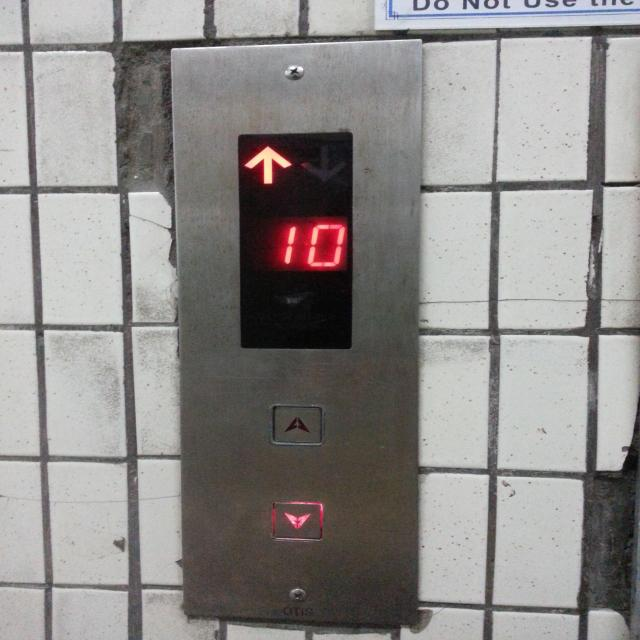down: (268, 498, 326, 545)
led: (234, 128, 356, 354)
up: (268, 402, 326, 450)
